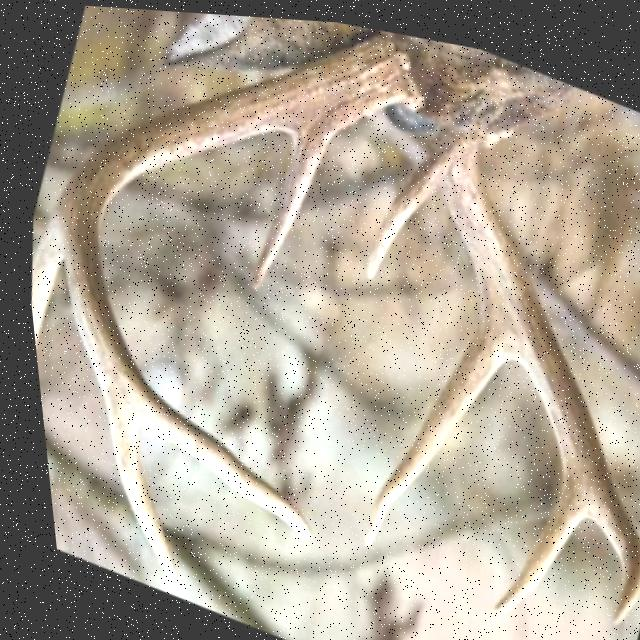L-G1: (357, 148, 434, 284)
L-G2: (349, 294, 502, 545)
L-G3: (477, 462, 575, 611)
R-F: (48, 24, 422, 541)
R-G1: (241, 128, 332, 294)
R-G2: (25, 210, 57, 352)
R-G3: (93, 394, 169, 590)
